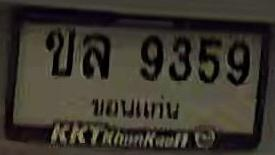number: (40, 16, 255, 90)
province: (87, 89, 182, 128)
